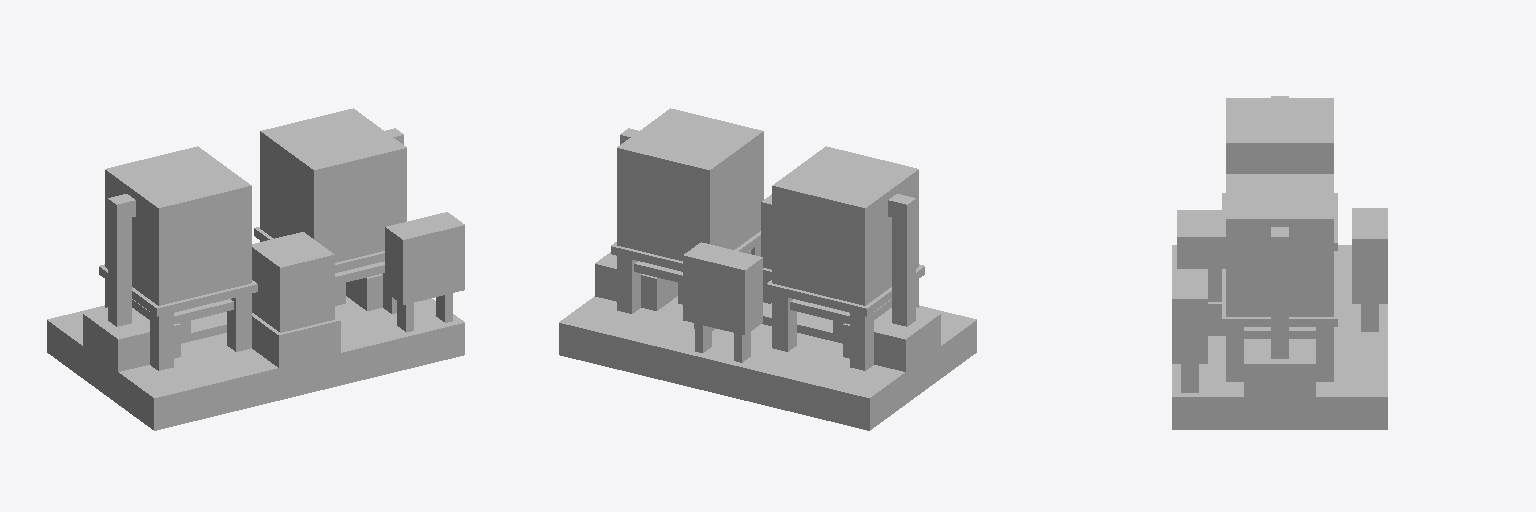
The model's file is refinery.obj.
3 views of the same model, side by side, from view 1: azimuth 30°, elevation 25°; view 2: azimuth 150°, elevation 25°; view 3: azimuth 270°, elevation 25° (orthographic).
Bounding box in the file's own units: 5 × 3 × 3.